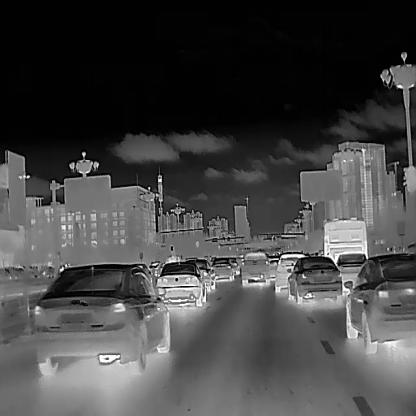bus: (322, 216, 368, 260)
car: (31, 261, 171, 376), (342, 251, 416, 354), (286, 255, 343, 304), (154, 260, 206, 307), (335, 252, 368, 291), (274, 252, 306, 292), (240, 251, 271, 287), (192, 257, 216, 291), (210, 256, 234, 280), (146, 261, 165, 277), (229, 260, 240, 276)
